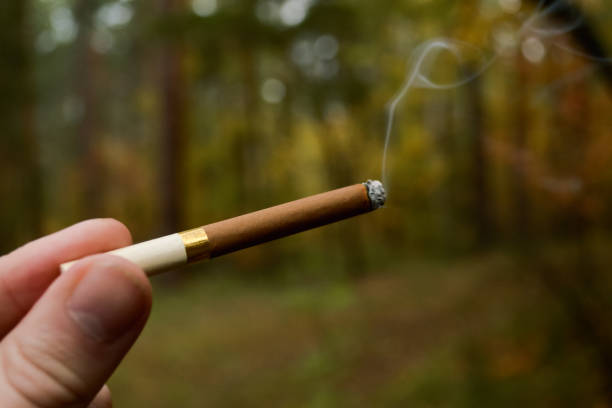cigarette: (59, 177, 392, 275)
